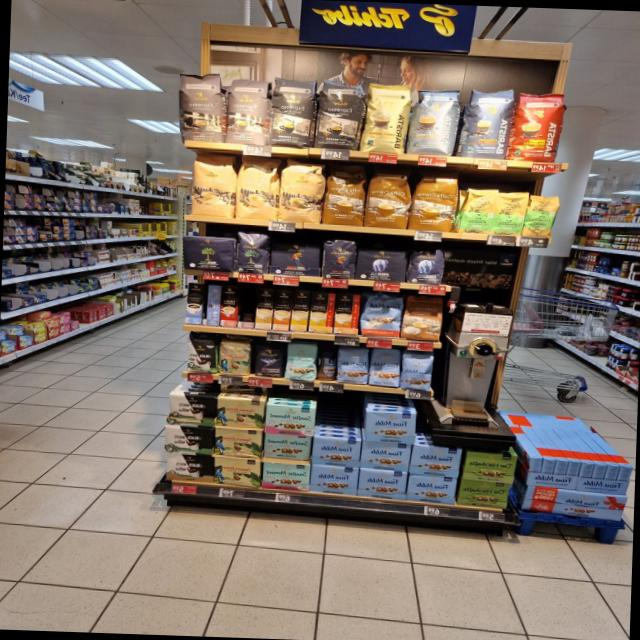AB Bohne: (406, 246, 444, 284)
AB Gemahlen: (355, 250, 406, 282)
Athiopien Bohne: (519, 193, 562, 239)
Athiopien Gemahlen: (456, 186, 498, 234), (491, 191, 530, 236)
BM Bohne: (234, 230, 270, 274)
BM Gemahlen: (181, 235, 235, 271)
BW Bohne: (184, 338, 217, 373)
BW Gemahlen: (167, 393, 216, 427), (162, 426, 212, 455), (164, 453, 213, 482)
Barista CB: (357, 81, 412, 154)
Barista CC: (406, 88, 459, 155)
Barista Espresso: (458, 87, 514, 159)
Barista Kolumbien: (505, 89, 567, 162)
C Fino Bohne: (253, 340, 283, 377)
CC Mild: (188, 152, 236, 218), (277, 160, 324, 223), (234, 157, 280, 220)
CC Vollmundig: (400, 294, 443, 340)
CC Vollmundig 36 Pads: (409, 174, 458, 232), (364, 172, 411, 229), (322, 170, 367, 226)
Colombia BB Bohne: (218, 340, 252, 376)
Colombia BB Gemahlen: (212, 426, 262, 458), (215, 397, 264, 428), (212, 458, 262, 488)
Empty Shelf: (238, 286, 257, 322)
Espresso Aromatisch: (176, 71, 224, 144), (223, 75, 271, 146)
Espresso S Art: (312, 76, 365, 150), (266, 73, 316, 148)
FM 36 Pads: (359, 292, 402, 336)
FM Bohne: (399, 352, 434, 392), (368, 348, 401, 387), (336, 346, 368, 384)
FM Gemahlen: (408, 444, 462, 476), (364, 410, 416, 443), (358, 469, 408, 500), (310, 464, 358, 496), (406, 474, 457, 504), (310, 436, 360, 466), (360, 442, 411, 471)
FM Instant: (316, 352, 337, 382)
Herzhatfe Mundig: (461, 450, 519, 482), (456, 480, 510, 509)
LG Bohne: (321, 238, 356, 279)
LG Gemahlen: (268, 237, 320, 276)
SM Bohne: (284, 342, 318, 382)
SM Gemahlen: (264, 404, 316, 436), (263, 434, 311, 460)
Simo CCMild: (308, 292, 335, 332)
Simo CCMild bigpack: (289, 290, 310, 331)
Simo CCVollmundig: (333, 293, 360, 334)
Simo CCVollmundig bigpack: (271, 289, 292, 330)
Simo Decaff: (254, 288, 275, 329)
Simo Es Brazil: (219, 285, 238, 326)
Simo Es Vanilla: (184, 282, 204, 323)
